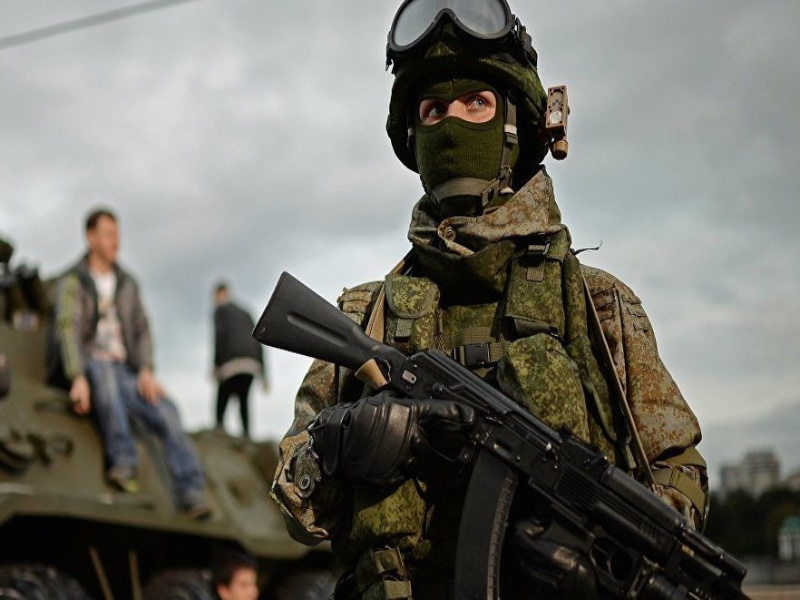person: (267, 1, 712, 600), (48, 206, 213, 518), (209, 280, 269, 434)
weapon: (252, 272, 747, 600)
